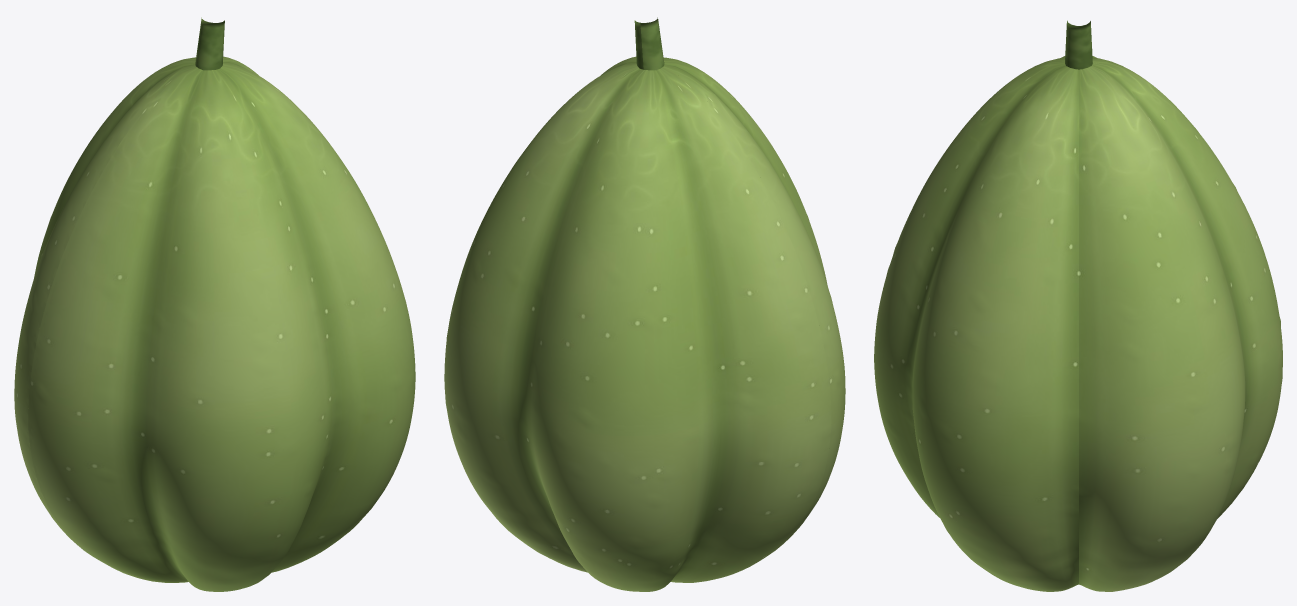
Rendered from chouchou.glb.
3 renders of one model, left to right at view 1: azimuth 30°, elevation 25°; view 2: azimuth 150°, elevation 25°; view 3: azimuth 270°, elevation 25°, orthographic.
Parts seen in each view (by area): view 1: moitie_A_peau, entier_peau, moitie_B_peau, entier_extra0; view 2: entier_peau, moitie_B_peau, moitie_A_peau, entier_extra0; view 3: entier_peau, moitie_B_peau, moitie_A_peau, entier_extra0.
Boxes of the visible parts, x1,y1,x2,y2 form: moitie_A_peau: (28,62,415,591); entier_peau: (14,57,415,591); moitie_B_peau: (14,56,258,542); entier_extra0: (195,17,224,70); entier_peau: (444,57,845,591); moitie_B_peau: (444,62,831,591); moitie_A_peau: (604,56,845,542); entier_extra0: (634,17,664,70); entier_peau: (874,56,1282,591); moitie_B_peau: (1079,56,1282,591); moitie_A_peau: (874,57,1078,591); entier_extra0: (1065,20,1092,69).
Bounding box in the file's own units: 0.084 × 0.1302 × 0.086.
3 materials, 3 textured.
